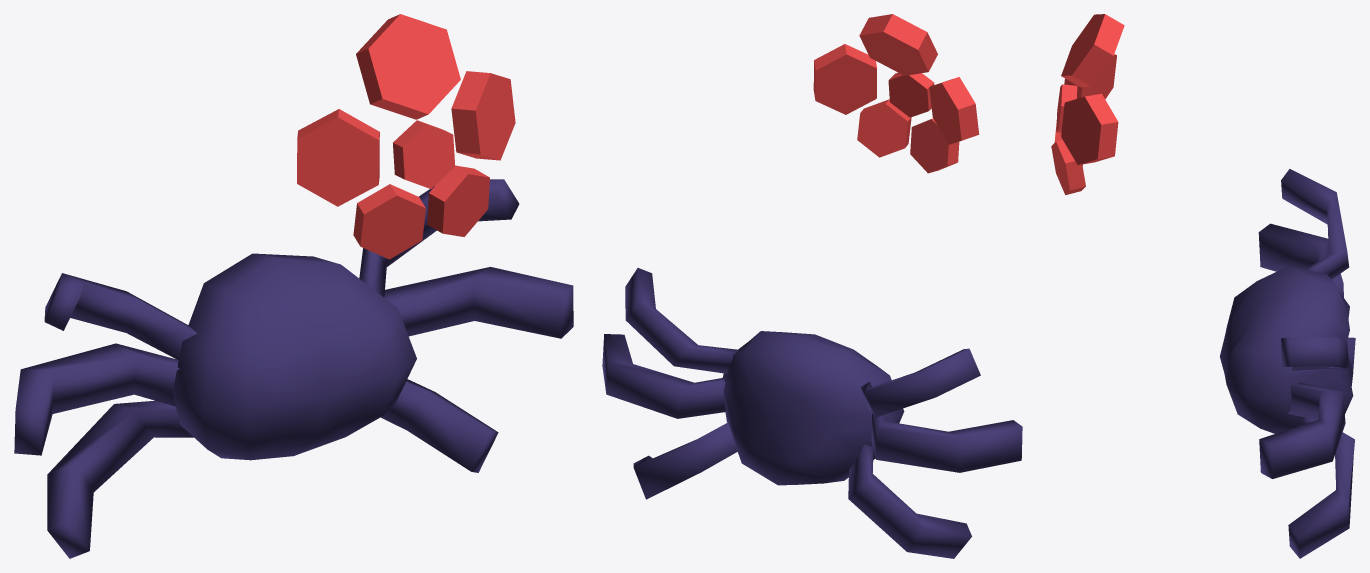
Rendered from Spider.fbx.
3 renders of one model, left to right at view 1: azimuth 30°, elevation 25°; view 2: azimuth 150°, elevation 25°; view 3: azimuth 270°, elevation 25°, orthographic. The views are drawn at different scales.
Visible parts, largest first — view 1: Spider_Body, Spider_Eyes; view 2: Spider_Body, Spider_Eyes; view 3: Spider_Body, Spider_Eyes.
Boxes of the visible parts, x1,y1,x2,y2 form: Spider_Body: (14,179,573,558); Spider_Eyes: (297,14,515,259); Spider_Body: (602,268,1022,558); Spider_Eyes: (813,14,979,173); Spider_Body: (1220,169,1355,558); Spider_Eyes: (1051,14,1124,195).
Bounding box in the file's own units: 221 × 227 × 134.
